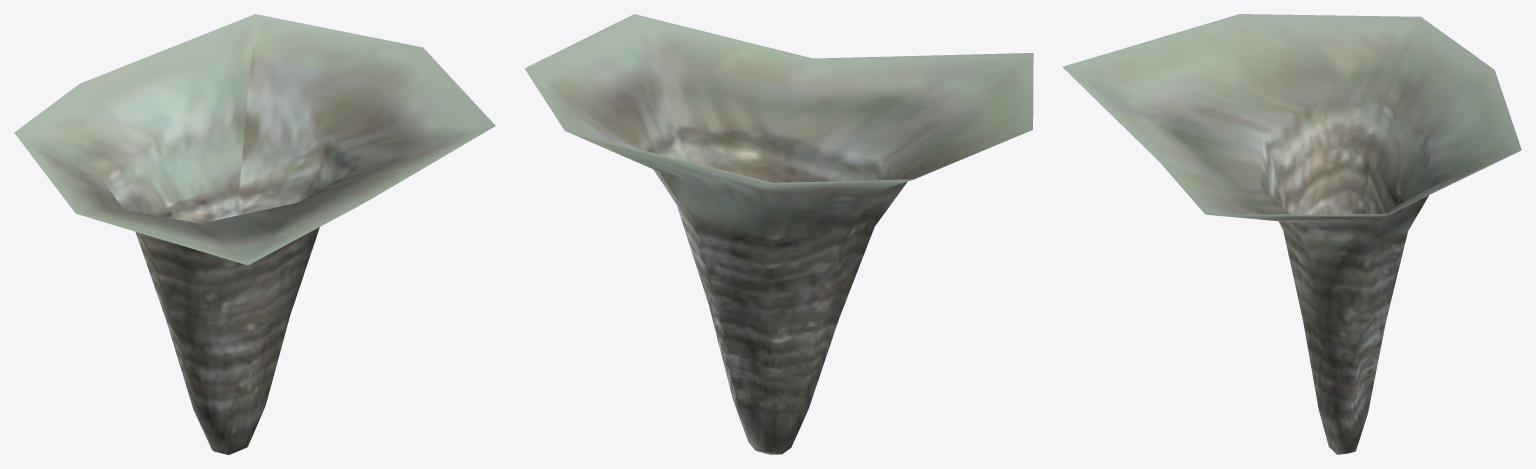
File: TROLLHOLE02_PS-MAINSTALAG43.fbx
The picture shows the model from 3 angles, left to right: view 1: azimuth 30°, elevation 25°; view 2: azimuth 150°, elevation 25°; view 3: azimuth 270°, elevation 25°; orthographic projection. The views are drawn at different scales.
Visible parts, largest first — view 1: TROLLHOLE02_PS-MAINSTALAG43; view 2: TROLLHOLE02_PS-MAINSTALAG43; view 3: TROLLHOLE02_PS-MAINSTALAG43.
Boxes of the visible parts, box(x1,y1,x2,y2) form: TROLLHOLE02_PS-MAINSTALAG43: box(14, 14, 495, 454); TROLLHOLE02_PS-MAINSTALAG43: box(524, 14, 1033, 454); TROLLHOLE02_PS-MAINSTALAG43: box(1062, 14, 1521, 454).
Size of the model in its own units: 15608 by 12428 by 14378.
1 material, 1 textured.
